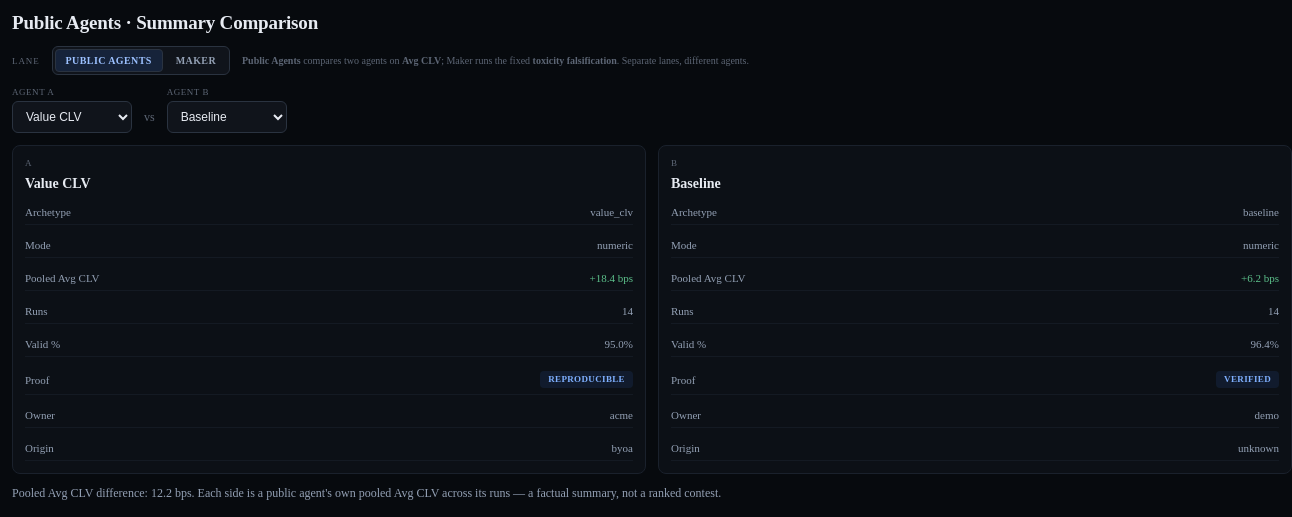
Test: DuelScreen — Public Agents · Summary Comparison (off-mock, honest labels) › null pooled performance renders "—", never a fabricated 0
Select "Momentum FR" in the dropdown labelled "Agent B" at [227, 117], box [167,101,287,133]
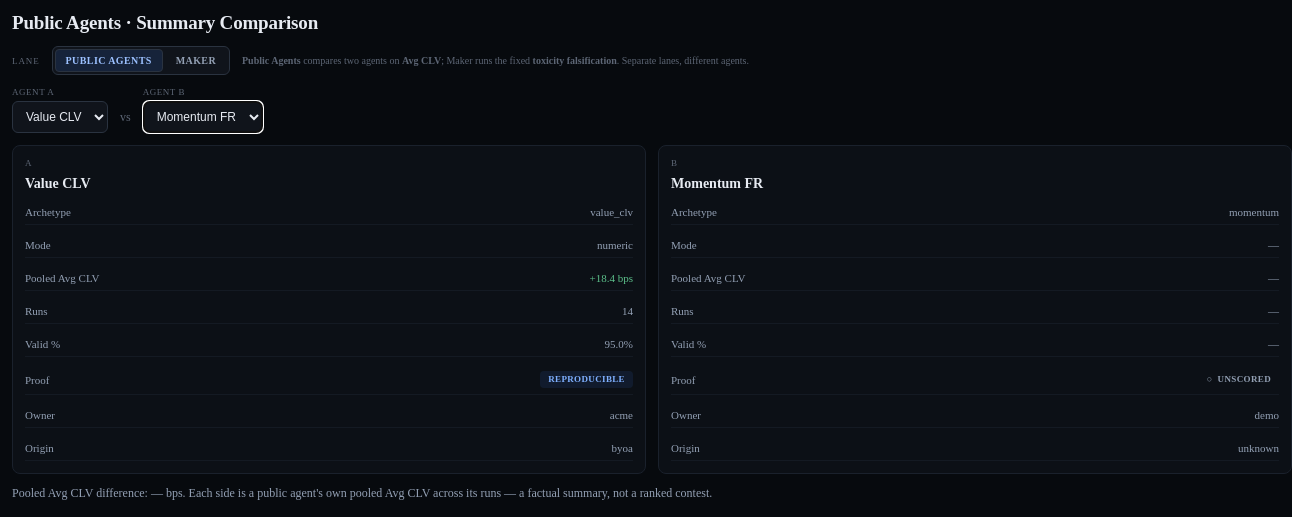
Expected: the element with test id "duel-clv" does not show "0", [1268,272,1279,284]
Now the element with test id "duel-clv" reads "—", box [1268,272,1279,284]
